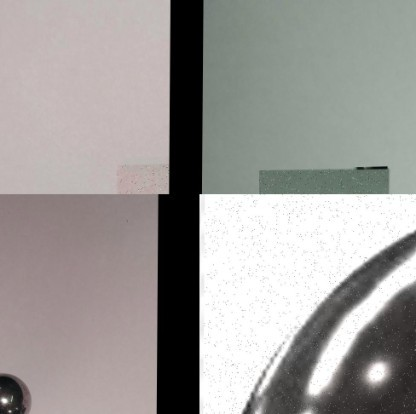ironball: (238, 232, 415, 413), (0, 370, 32, 412)
